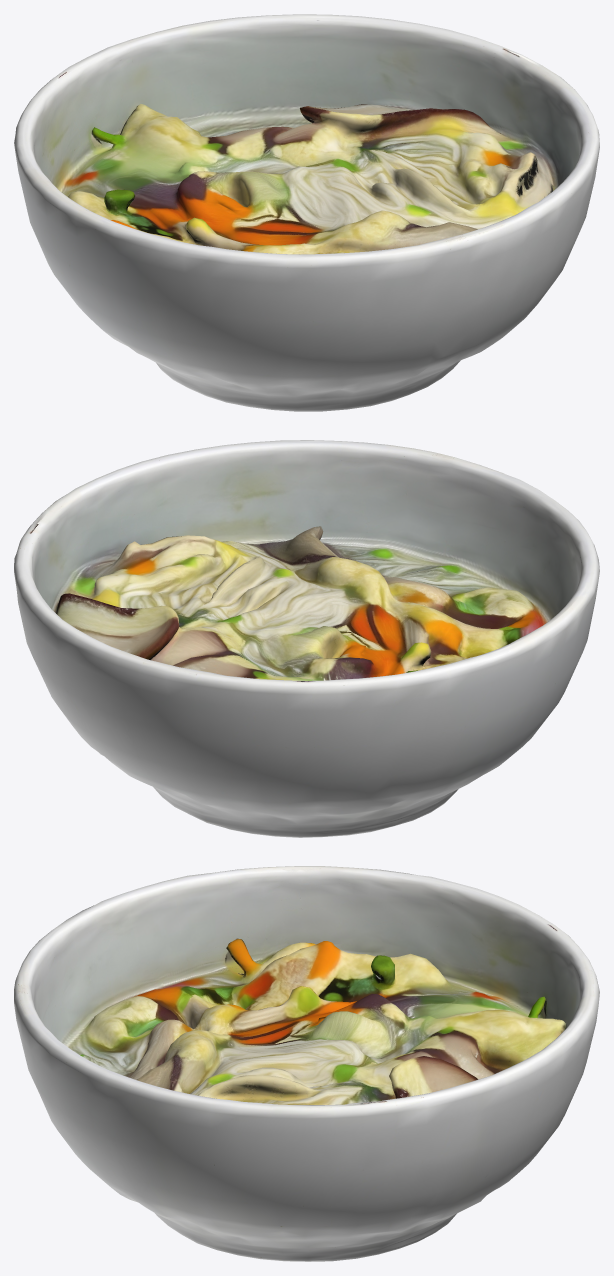
Rendered from stew.glb.
3 renders of one model, top to bottom at view 1: azimuth 30°, elevation 25°; view 2: azimuth 150°, elevation 25°; view 3: azimuth 270°, elevation 25°, orthographic.
Parts seen in each view (by area): view 1: Object_5; view 2: Object_5; view 3: Object_5.
Boxes of the visible parts, left/top/right/bottom form: Object_5: left=14, top=14, right=599, bottom=411; Object_5: left=14, top=440, right=599, bottom=837; Object_5: left=14, top=866, right=599, bottom=1261.
Size of the model in its own units: 1.9 by 0.7554 by 1.9.
1 material, 1 textured.
